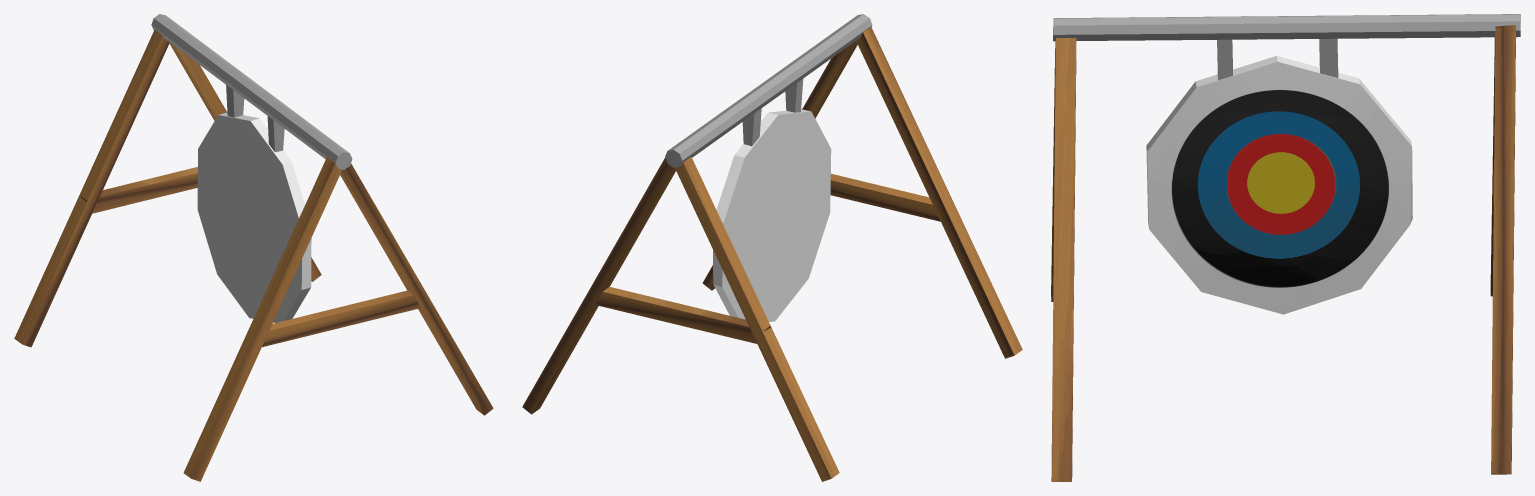
File: bull's eye.fbx
3 renders of one model, left to right at view 1: azimuth 30°, elevation 25°; view 2: azimuth 150°, elevation 25°; view 3: azimuth 270°, elevation 25°, orthographic. The views are drawn at different scales.
Visible parts, largest first — view 1: polySurface3, roos; view 2: polySurface3, roos; view 3: roos, polySurface3.
Part boxes in pixels (x1,y1,x2,y2): polySurface3: (14, 29, 493, 481); roos: (151, 14, 352, 322); polySurface3: (522, 27, 1022, 481); roos: (665, 14, 872, 321); roos: (1053, 14, 1520, 314); polySurface3: (1051, 25, 1515, 481).
Bounding box in the file's own units: 108 × 102 × 114.
